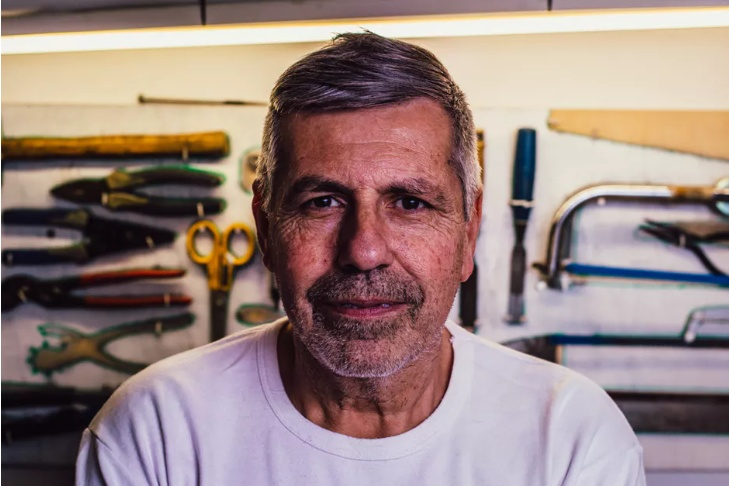face: (270, 103, 457, 376)
